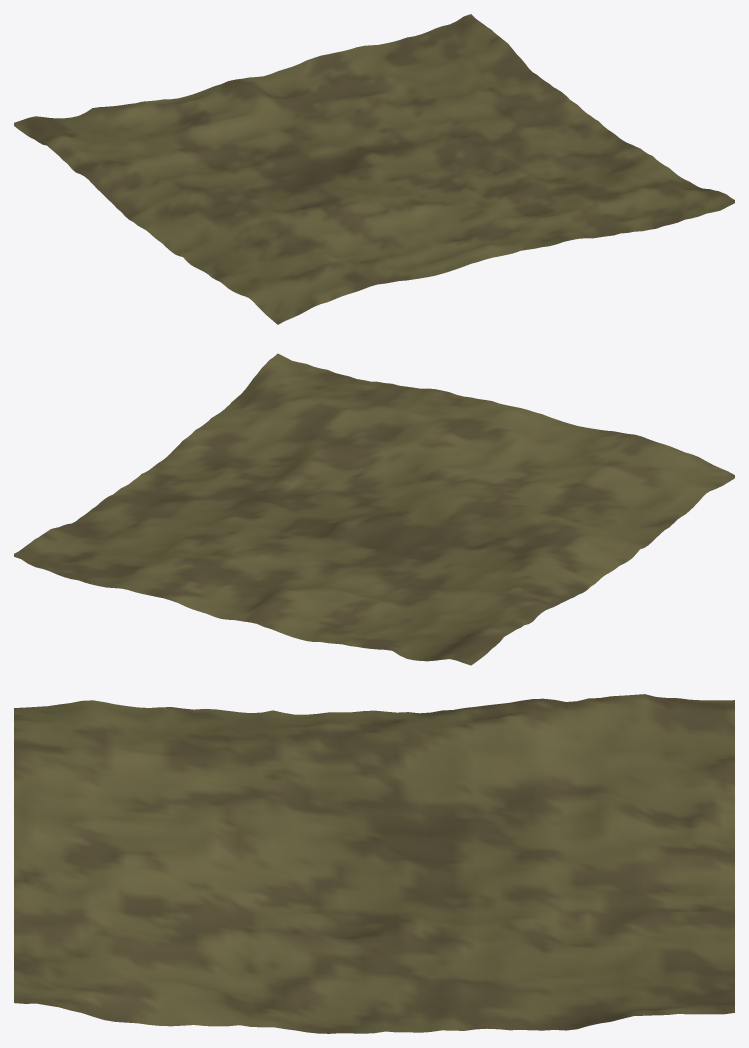
File: land_f_09_10.glb
3 renders of one model, top to bottom at view 1: azimuth 30°, elevation 25°; view 2: azimuth 150°, elevation 25°; view 3: azimuth 270°, elevation 25°, orthographic. The views are drawn at different scales.
Visible parts, largest first — view 1: land_f_09_10; view 2: land_f_09_10; view 3: land_f_09_10.
Boxes of the visible parts, x1,y1,x2,y2 form: land_f_09_10: (14,14,734,324); land_f_09_10: (14,353,734,665); land_f_09_10: (14,694,734,1033).
Size of the model in its own units: 3840 by 258 by 3840.
